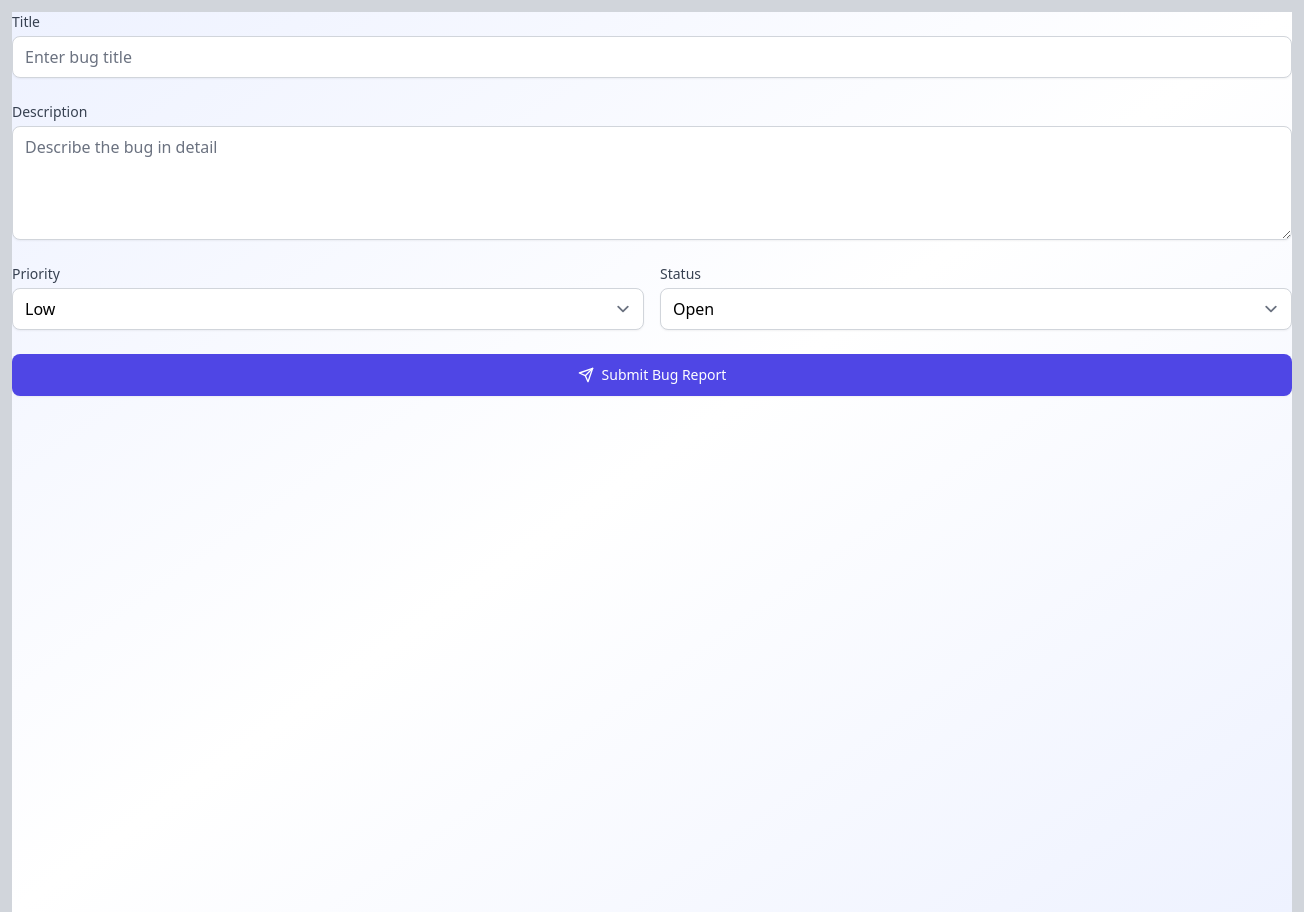
Test: BugForm › shows validation errors for empty fields
Click the button "Submit Bug Report" at [652, 375], box [12,354,1292,396]
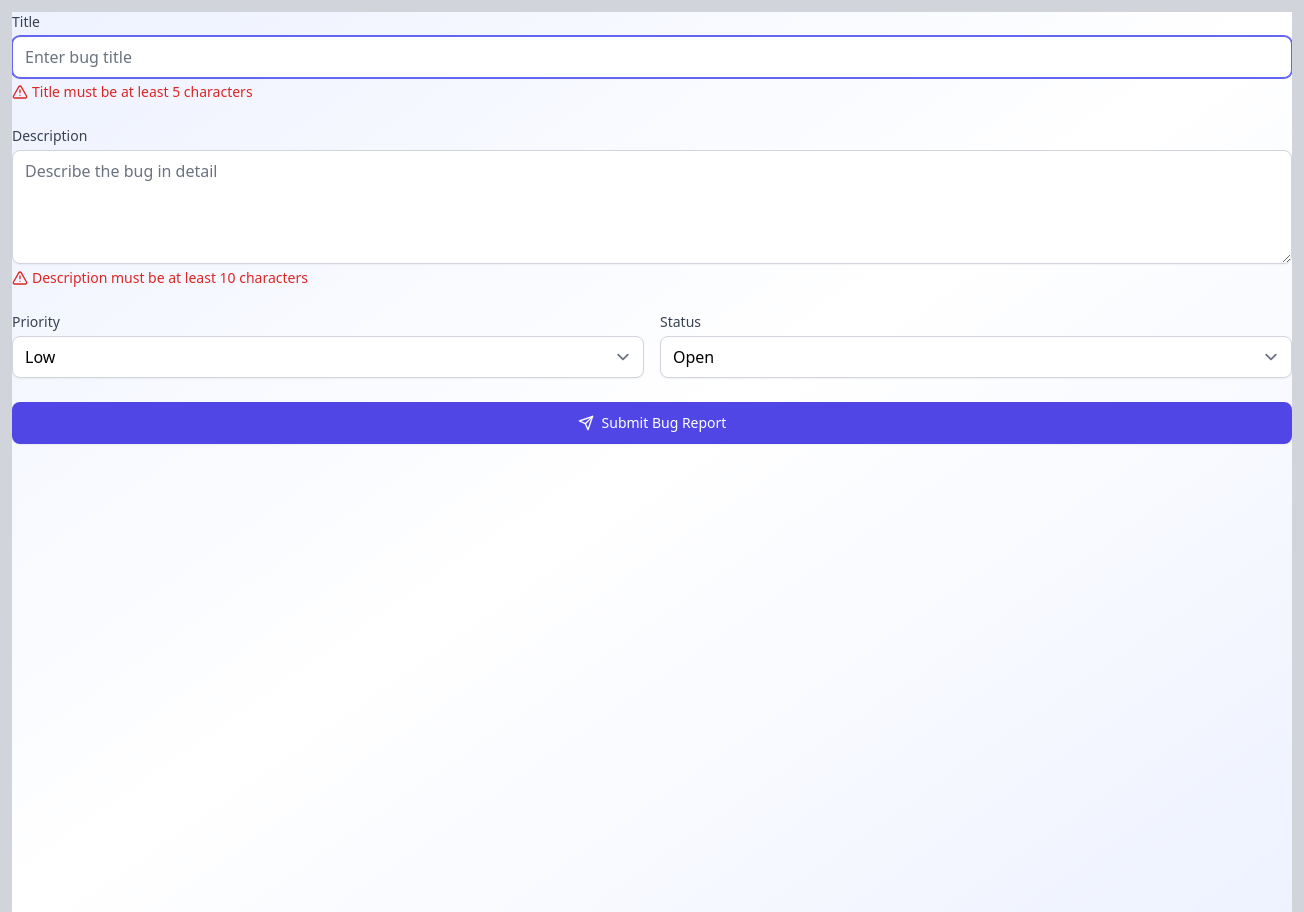
Check: the text "Title must be at least 5 characters" is shown, box [12,82,253,101]
Check: the text "Description must be at least 10 characters" is shown, box [12,268,308,287]
